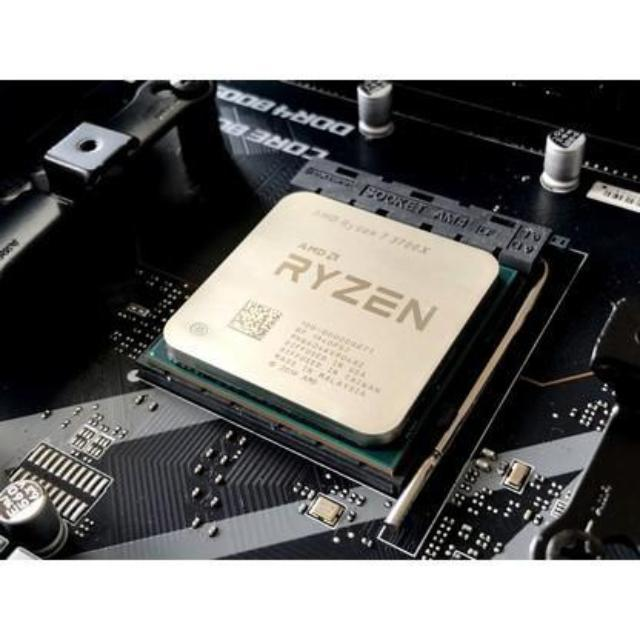CPU: (160, 190, 514, 468)
